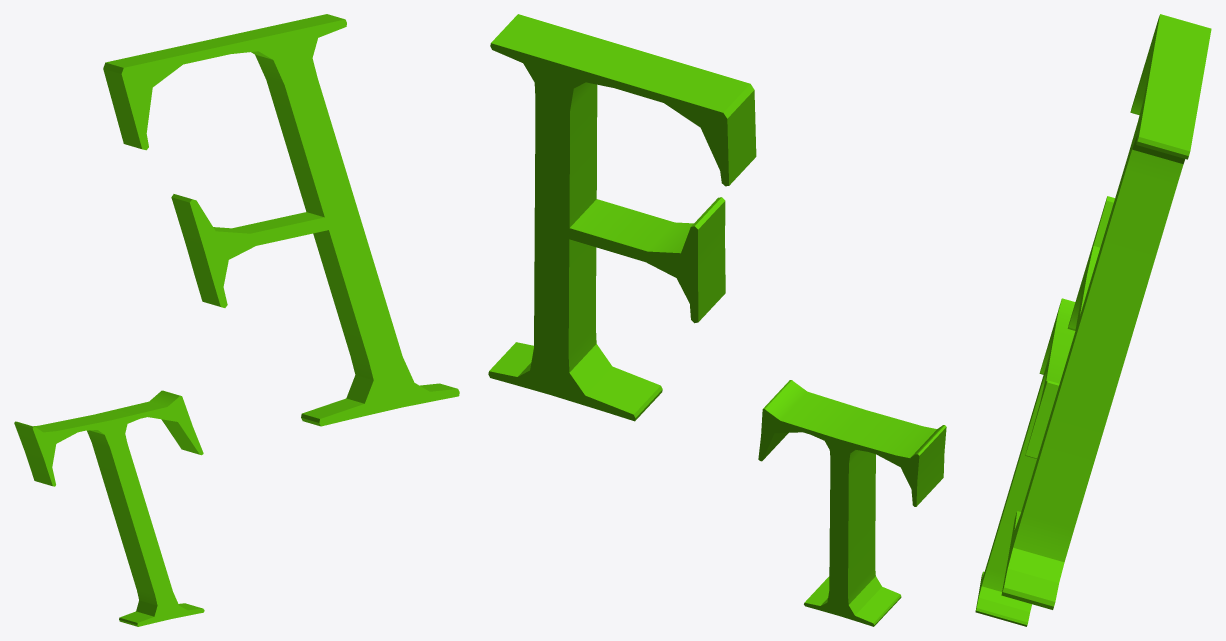
3 renders of one model, left to right at view 1: azimuth 30°, elevation 25°; view 2: azimuth 150°, elevation 25°; view 3: azimuth 270°, elevation 25°, orthographic. The views are drawn at different scales.
Visible parts, largest first — view 1: Ft; view 2: Ft; view 3: Ft.
Part boxes in pixels (box(x1,y1,x2,y2)): Ft: box(14, 14, 459, 626); Ft: box(488, 14, 946, 626); Ft: box(975, 14, 1211, 626).
Bounding box in the file's own units: 4.8 × 5.7 × 1.99.
